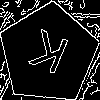K: (23, 29, 71, 84)
